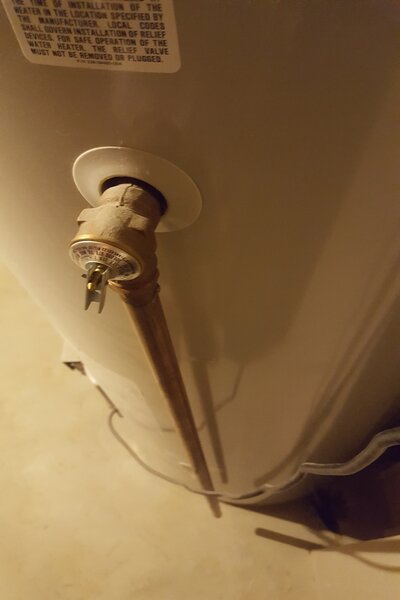valve: (70, 177, 168, 343)
